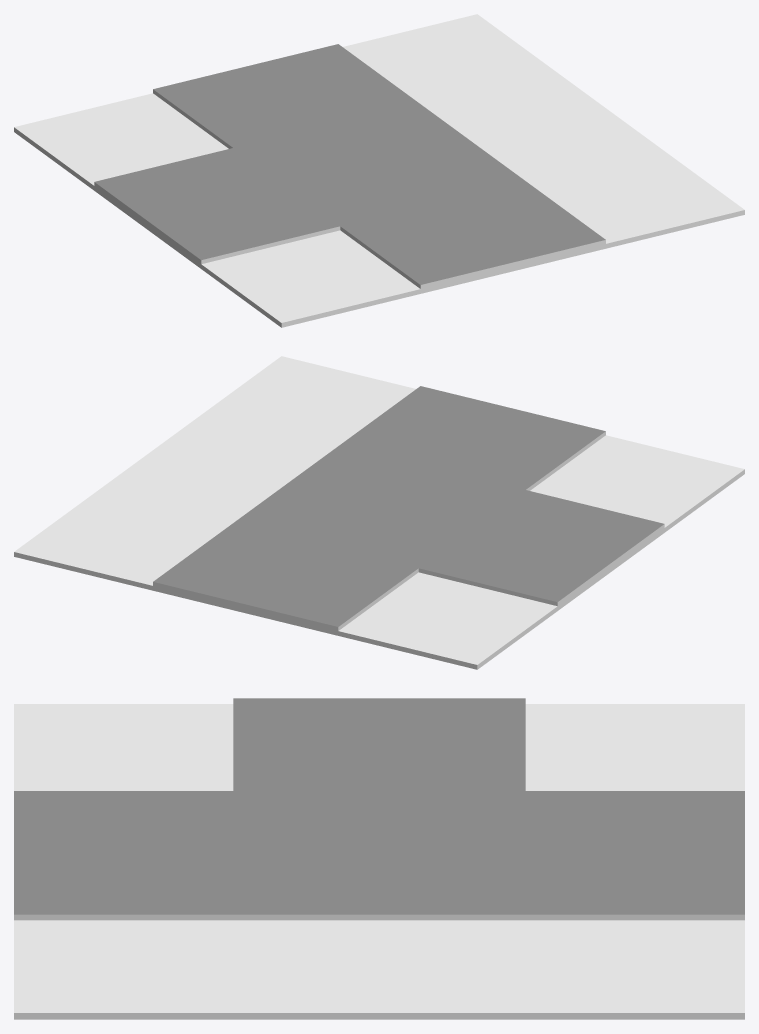
File: road-pholder-3way.obj
3 renders of one model, top to bottom at view 1: azimuth 30°, elevation 25°; view 2: azimuth 150°, elevation 25°; view 3: azimuth 270°, elevation 25°, orthographic. The views are drawn at different scales.
Parts seen in each view (by area): view 1: Cube.001; view 2: Cube.001; view 3: Cube.001.
Part boxes in pixels (x1,y1,x2,y2): Cube.001: (14, 14, 744, 327); Cube.001: (14, 356, 744, 669); Cube.001: (14, 698, 744, 1019).
Size of the model in its own units: 2 by 0.0367 by 2.
Materials: 1 (1 with a texture image).
